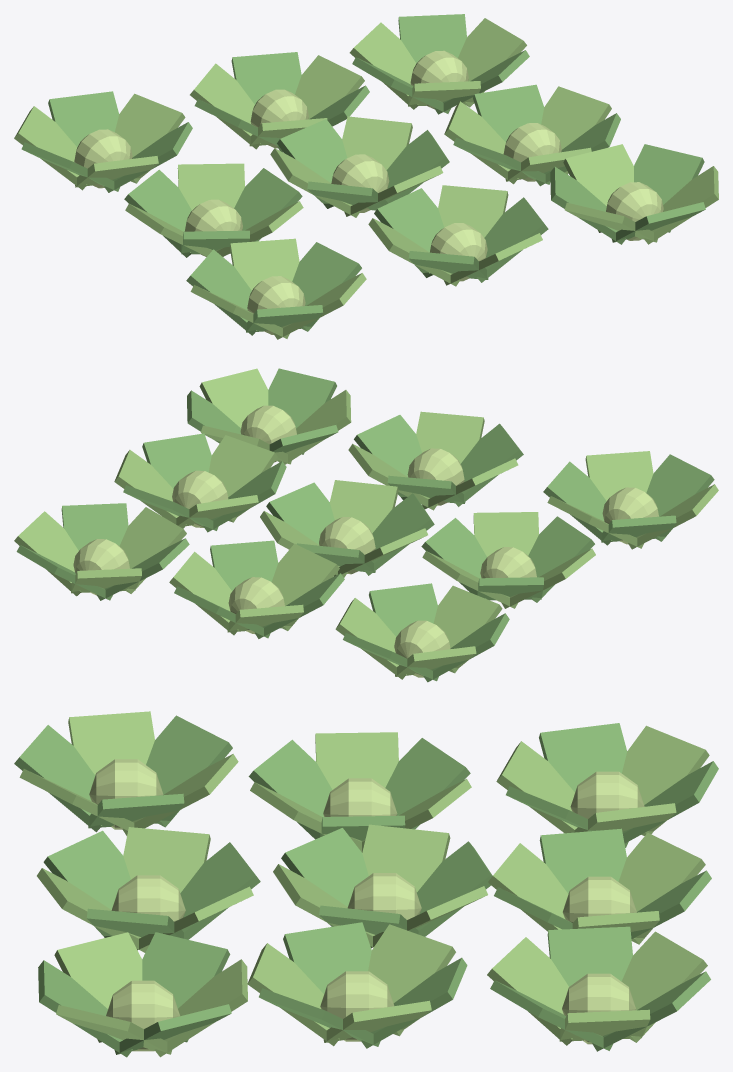
Rendered from crop_cabbage_growing.glb.
The picture shows the model from 3 angles, top to bottom: view 1: azimuth 30°, elevation 25°; view 2: azimuth 150°, elevation 25°; view 3: azimuth 270°, elevation 25°; orthographic projection. The views are drawn at different scales.
Parts seen in each view (by area): view 1: leaf_dark, leaf, leaf_light; view 2: leaf_dark, leaf, leaf_light; view 3: leaf_dark, leaf, leaf_light.
Part boxes in pixels (x1,y1,x2,y2): leaf_dark: [21, 14, 705, 335]; leaf: [14, 18, 718, 339]; leaf_light: [74, 50, 663, 334]; leaf_dark: [16, 368, 714, 682]; leaf: [14, 368, 718, 679]; leaf_light: [73, 405, 658, 677]; leaf_dark: [14, 715, 718, 1057]; leaf: [19, 711, 709, 1057]; leaf_light: [89, 759, 644, 1051].
Bounding box in the file's own units: 0.9035 × 0.095 × 0.8545.
